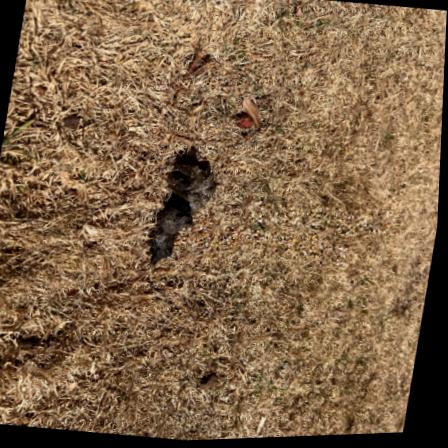dog-poop: (161, 155, 224, 262)
